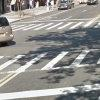Crosswalk: (13, 19, 100, 50)
